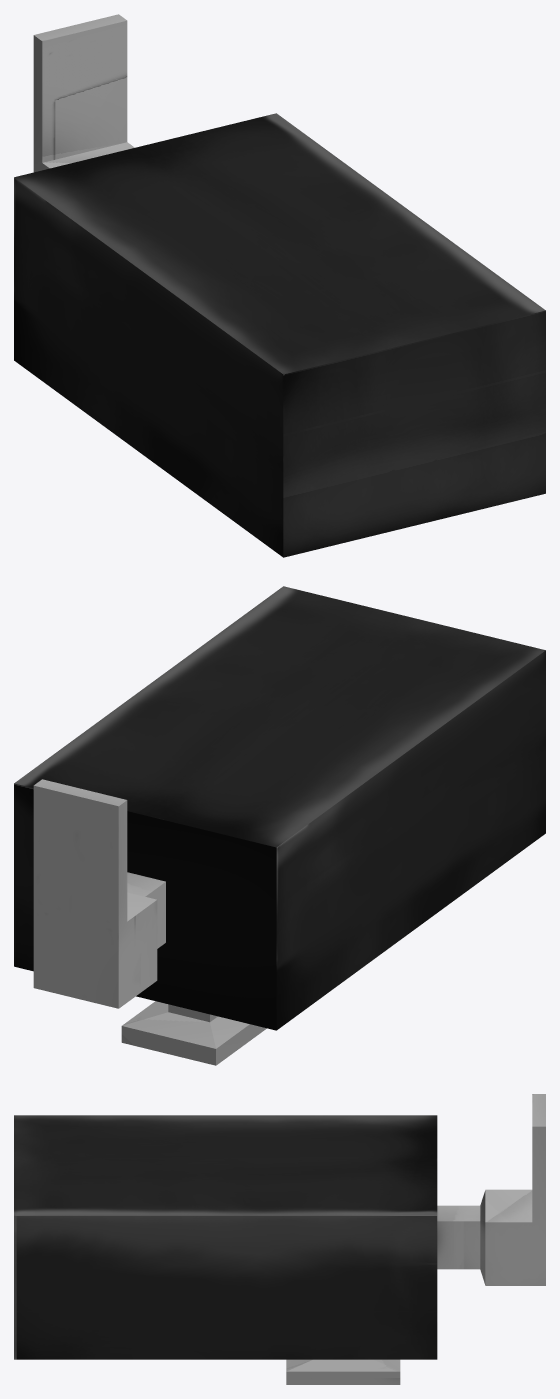
File: seifenspender.gltf
3 renders of one model, top to bottom at view 1: azimuth 30°, elevation 25°; view 2: azimuth 150°, elevation 25°; view 3: azimuth 270°, elevation 25°, orthographic. The views are drawn at different scales.
Parts seen in each view (by area): view 1: Cube; view 2: Cube; view 3: Cube.
Boxes of the visible parts, x1=… form: Cube: x1=14, y1=14, x2=545, y2=557; Cube: x1=14, y1=586, x2=545, y2=1065; Cube: x1=14, y1=1094, x2=545, y2=1384.
Bounding box in the file's own units: 0.09 × 0.1068 × 0.201.
Materials: 1 (1 with a texture image).
